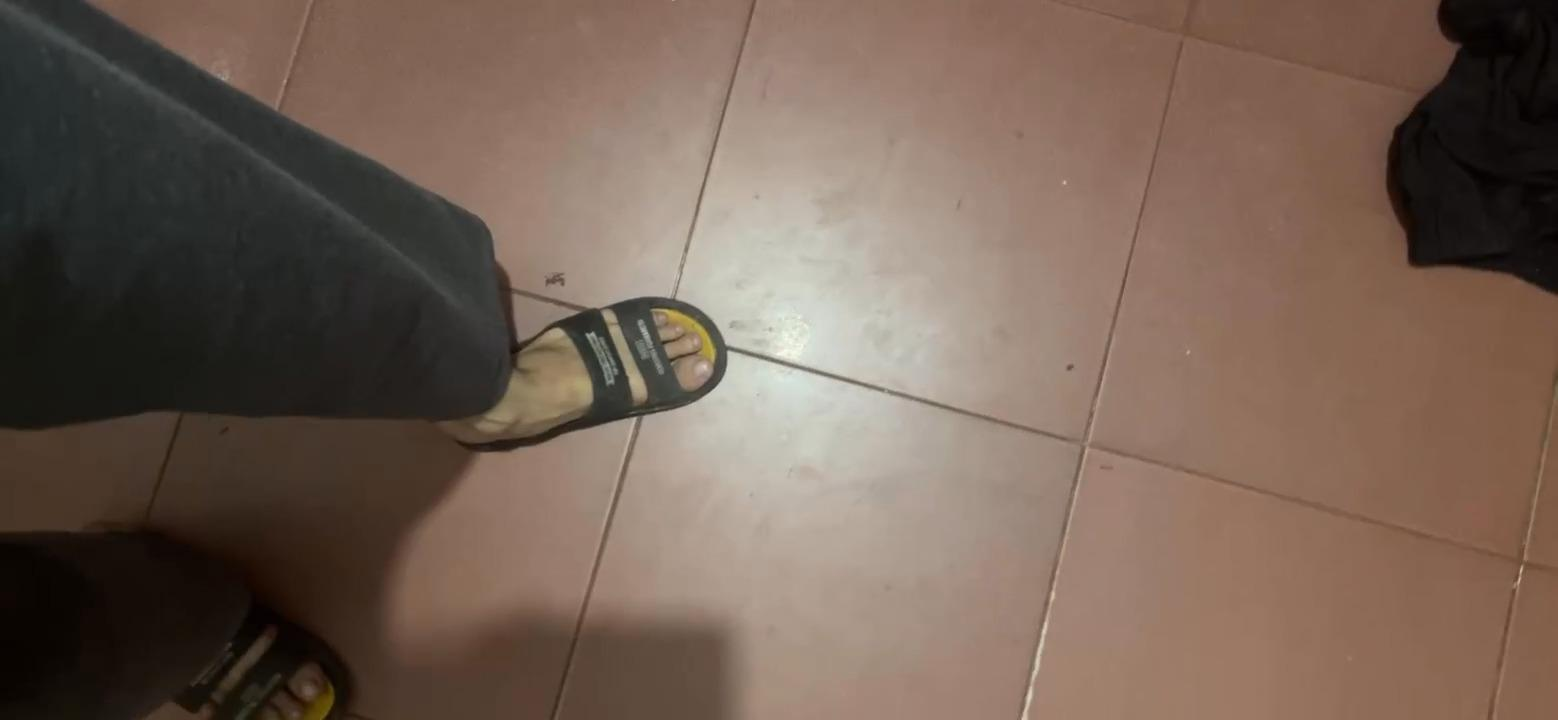no-boot: (415, 289, 739, 467), (133, 569, 355, 720)
